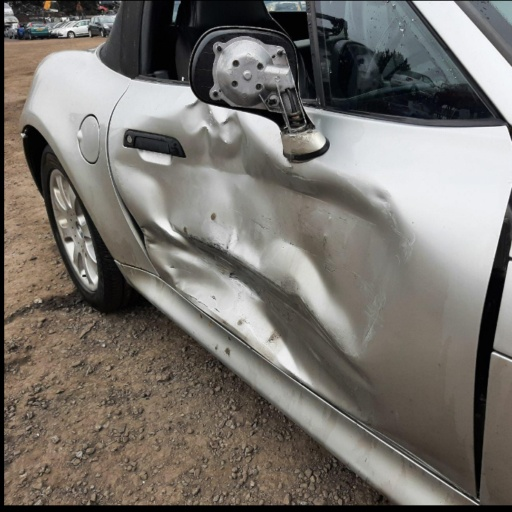dent: (93, 98, 415, 425)
rust: (282, 128, 321, 153), (266, 325, 287, 344), (236, 317, 252, 326), (224, 346, 233, 355), (210, 211, 217, 222), (199, 314, 204, 324), (222, 320, 228, 326), (208, 321, 214, 327), (215, 344, 220, 351), (227, 335, 231, 341)
scratch: (140, 217, 378, 409), (311, 164, 416, 266), (244, 216, 346, 277), (259, 148, 358, 203), (270, 182, 382, 229), (351, 265, 393, 355), (180, 287, 222, 315), (292, 206, 319, 242), (167, 262, 193, 276), (225, 225, 239, 249), (320, 229, 330, 248)
